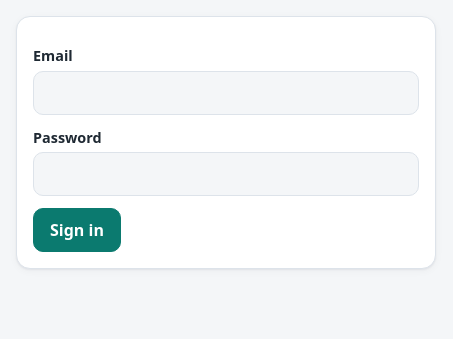
Test case: LoginGate › asks for a password when it is empty
This screenshot has width=453, height=339.
Type "me@example.com" into the field labelled "Email" at (226, 93), box [33,71,419,115]
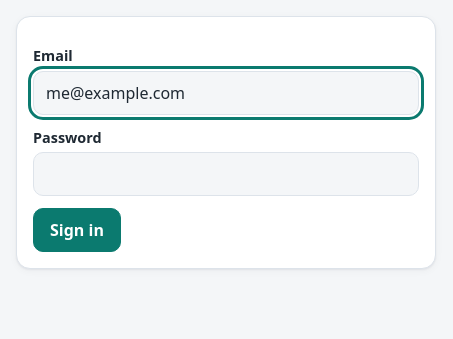
Click the button "Sign in" at (77, 230), box [33,208,121,252]
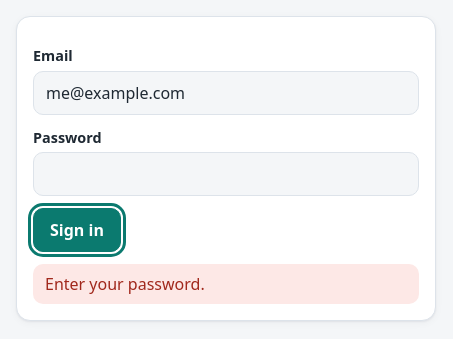
Result: the text "Enter your password." is shown at [33,264,419,304]
